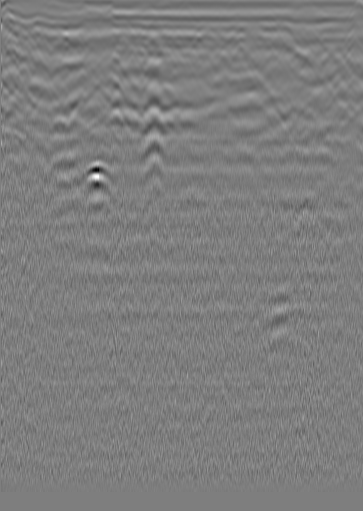가스: (76, 159, 114, 193)
상수: (320, 28, 340, 48)
오수: (28, 27, 48, 47)
우수: (187, 27, 207, 47)
